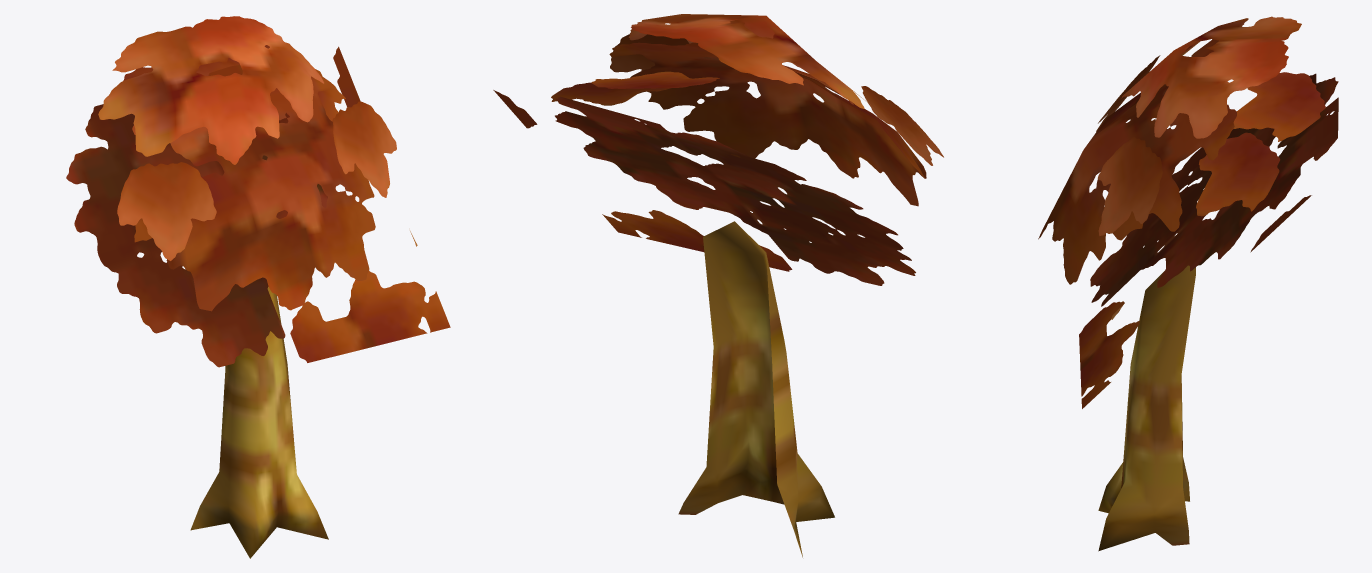
The model's file is fg_treeA_1.dae.
The picture shows the model from 3 angles, left to right: view 1: azimuth 30°, elevation 25°; view 2: azimuth 150°, elevation 25°; view 3: azimuth 270°, elevation 25°; orthographic projection. The views are drawn at different scales.
Parts seen in each view (by area): view 1: vsn_mesh_0_; view 2: vsn_mesh_0_; view 3: vsn_mesh_0_.
Boxes of the visible parts, bbox=[...] form: vsn_mesh_0_: bbox=[66, 16, 450, 558]; vsn_mesh_0_: bbox=[493, 14, 943, 557]; vsn_mesh_0_: bbox=[1038, 16, 1338, 551].
Size of the model in its own units: 32.92 by 42.44 by 26.43.
